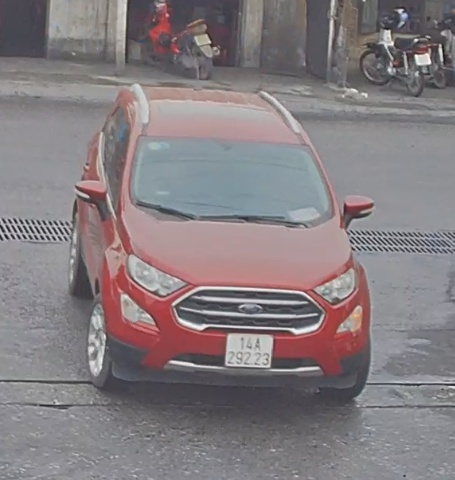vehicle plate: (220, 327, 278, 375)
